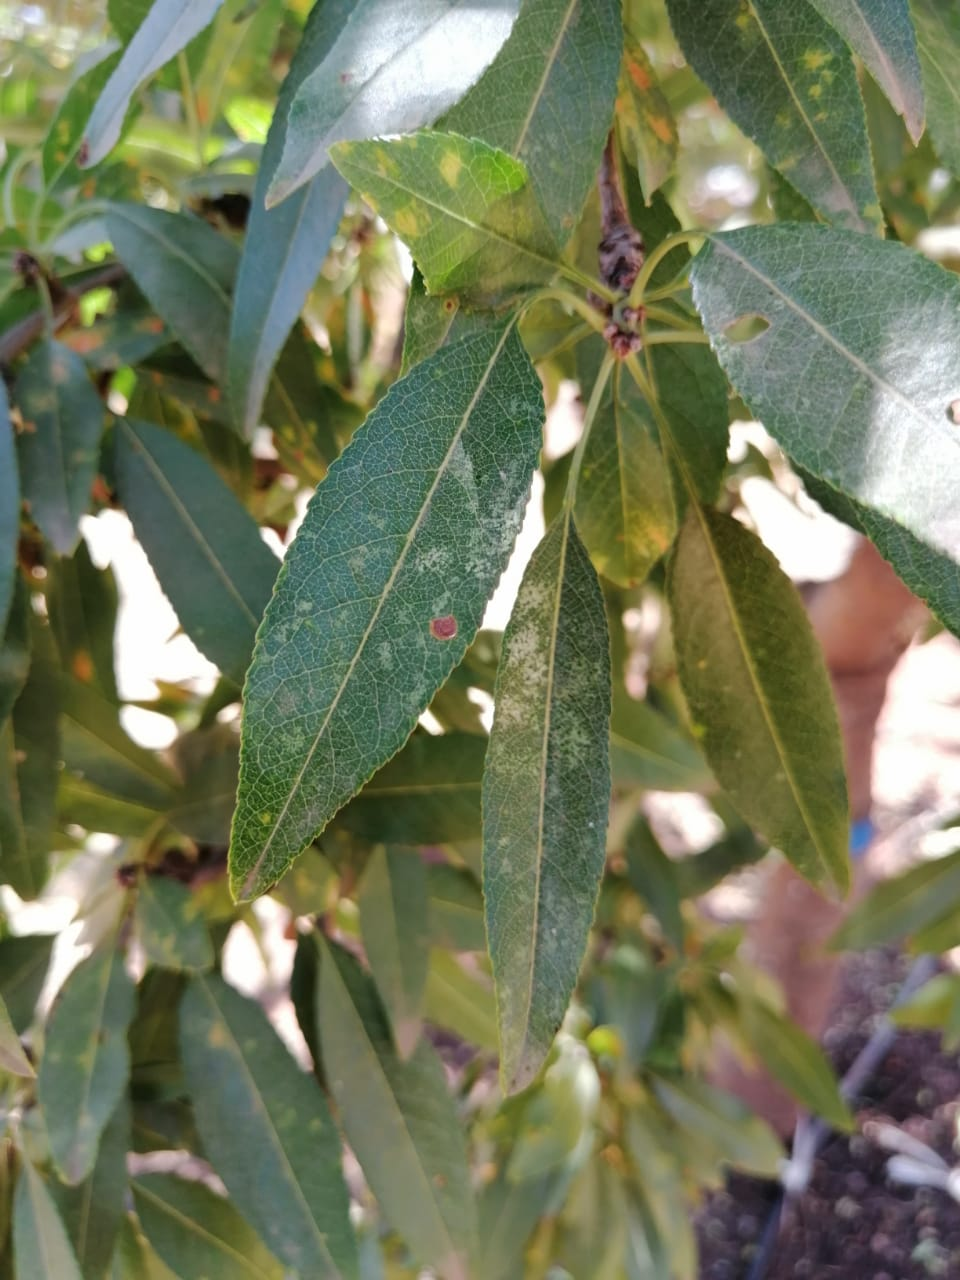faux tigre: (225, 322, 545, 906), (491, 506, 613, 1099)
